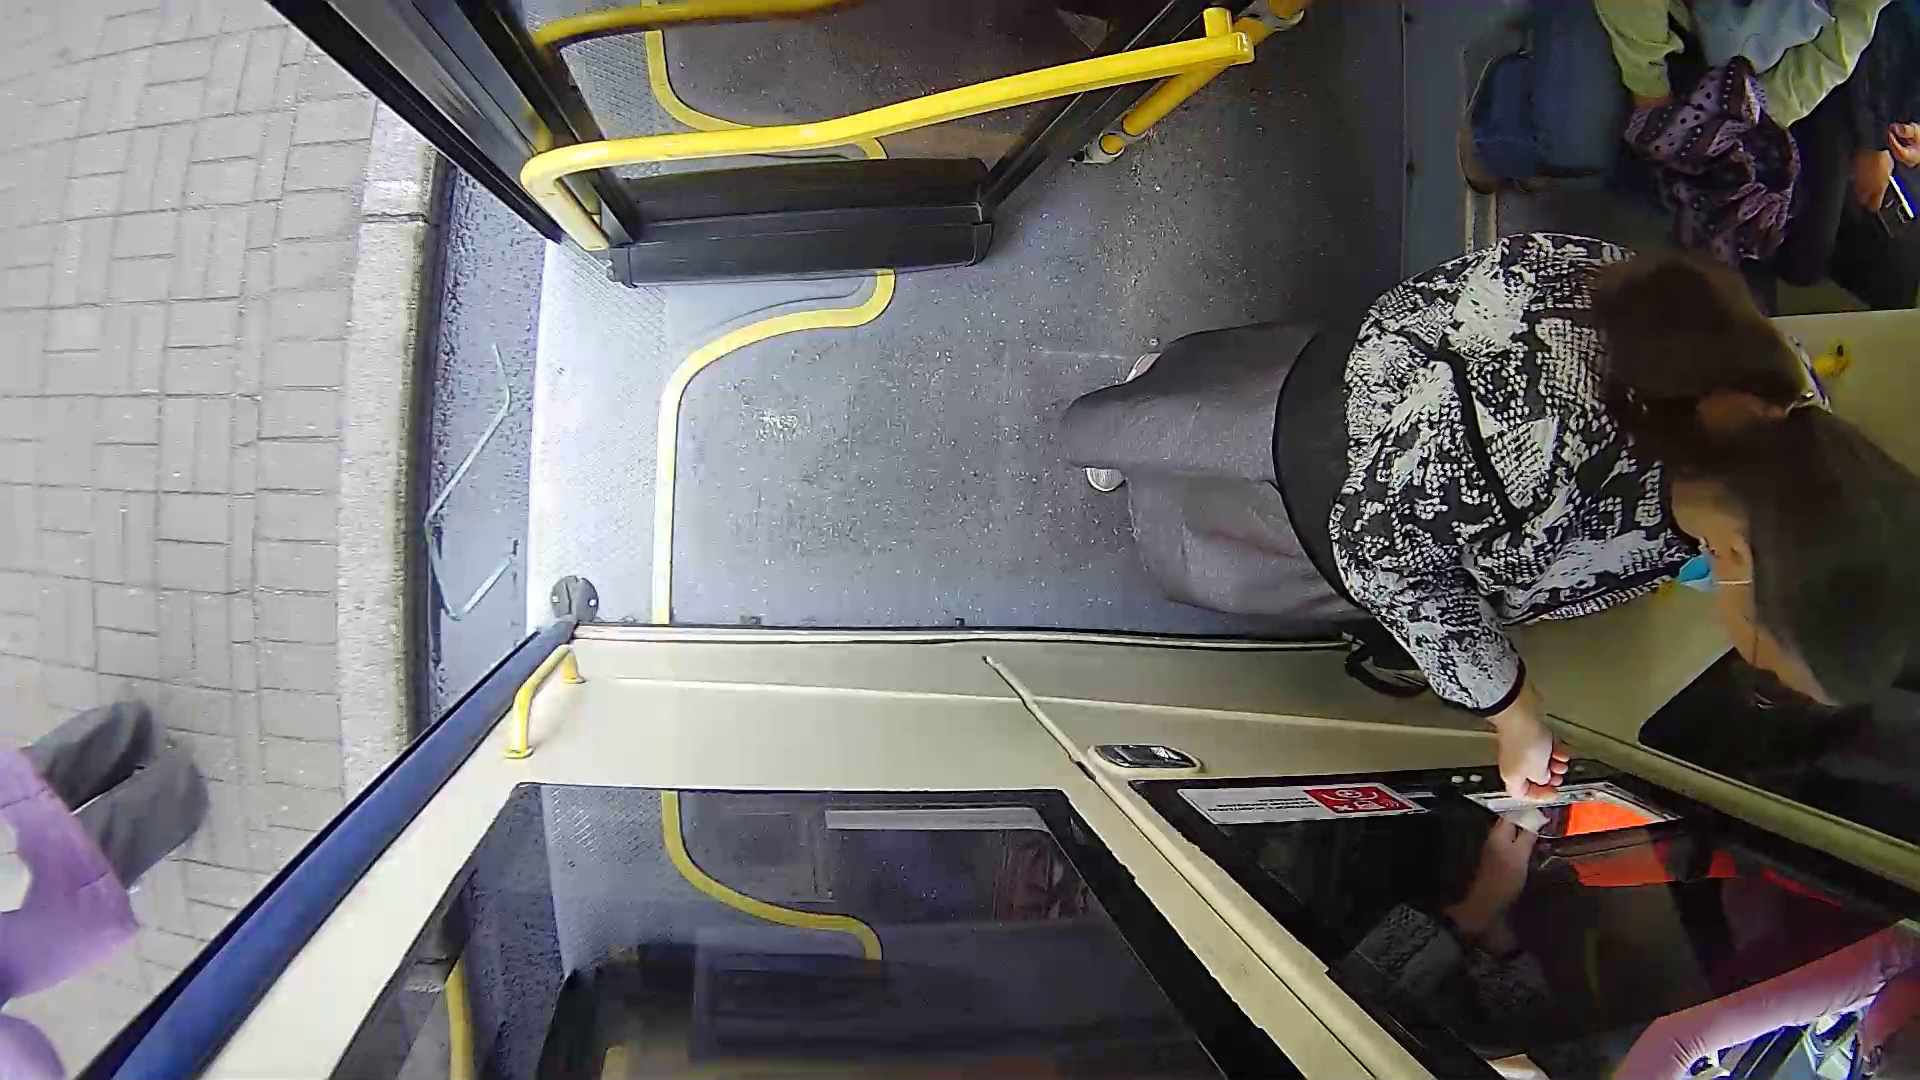person: (1189, 176, 1920, 803)
